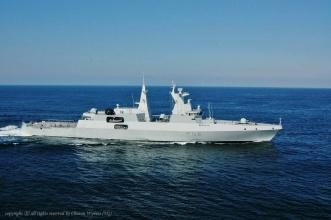warship: (22, 83, 292, 142)
